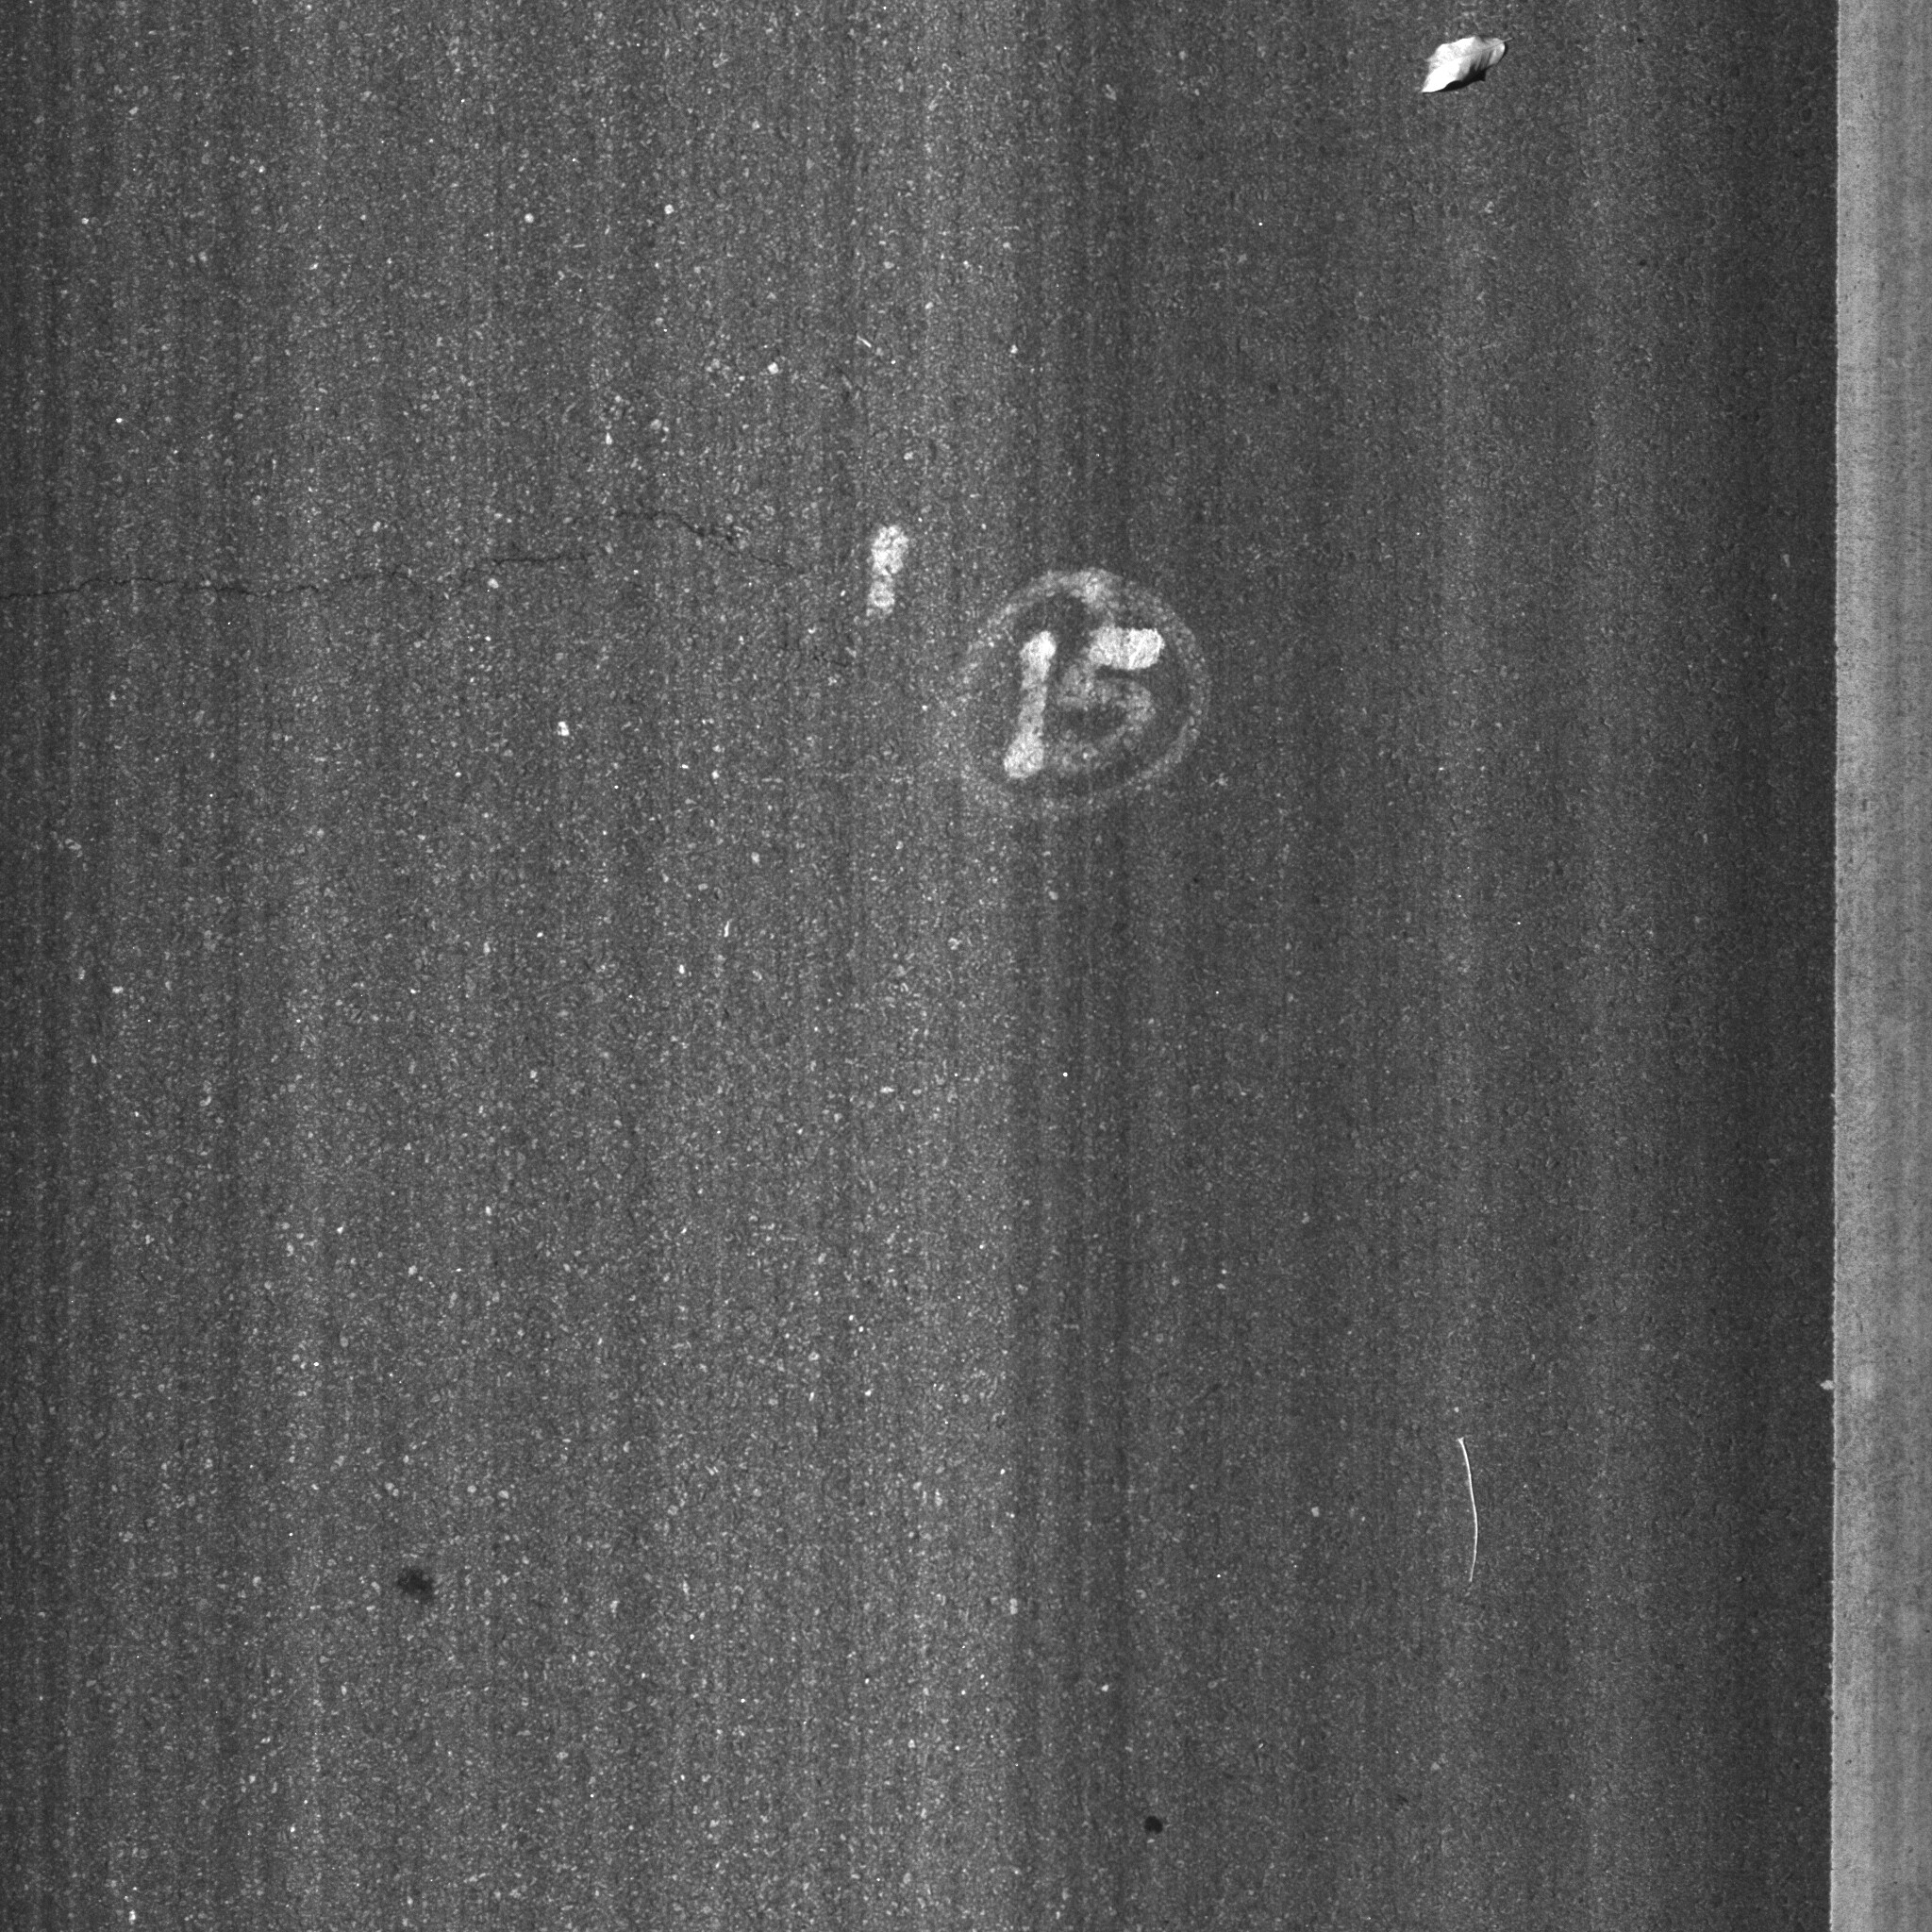transverse: (11, 487, 855, 644)
